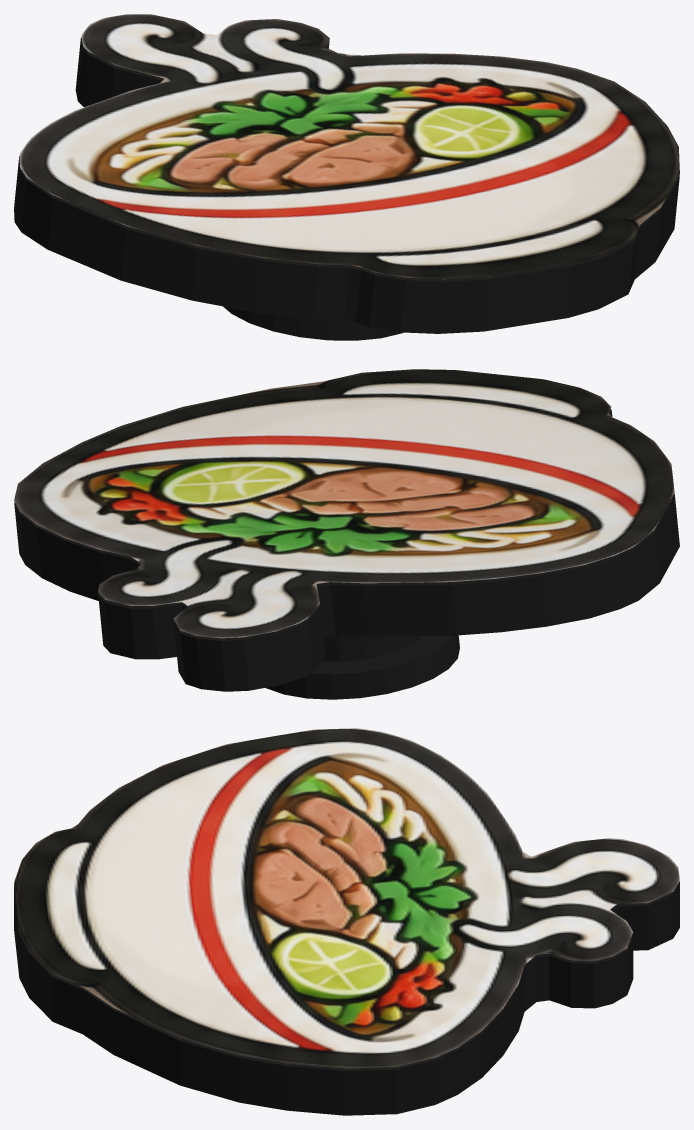
Rendered from vietnam-pho.glb.
3 views of the same model, one above another, from view 1: azimuth 30°, elevation 25°; view 2: azimuth 150°, elevation 25°; view 3: azimuth 270°, elevation 25° (orthographic). The views are drawn at different scales.
Parts seen in each view (by area): view 1: VIETNAM_Pho_MODEL; view 2: VIETNAM_Pho_MODEL; view 3: VIETNAM_Pho_MODEL.
Part boxes in pixels (x1,y1,x2,y2): VIETNAM_Pho_MODEL: (14,14,679,340); VIETNAM_Pho_MODEL: (14,369,679,699); VIETNAM_Pho_MODEL: (14,728,679,1115).
Bounding box in the file's own units: 0.3233 × 0.0998 × 0.3257.
3 materials, 1 textured.
